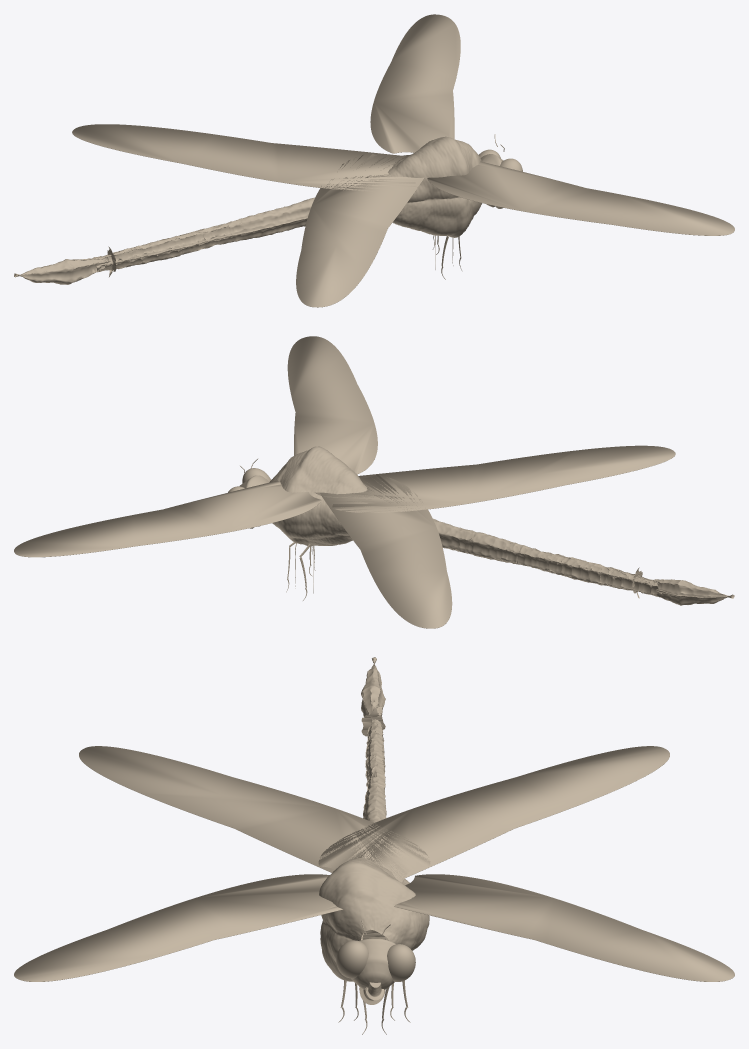
The model's file is 3dcodebench_Dragonfly_seed0.glb.
3 views of the same model, one above another, from view 1: azimuth 30°, elevation 25°; view 2: azimuth 150°, elevation 25°; view 3: azimuth 270°, elevation 25° (orthographic). The views are drawn at different scales.
Parts seen in each view (by area): view 1: object; view 2: object; view 3: object.
Part boxes in pixels (x1,y1,x2,y2): object: (14,14,734,307); object: (14,336,734,628); object: (14,657,734,1034).
Size of the model in its own units: 0.7822 by 0.1857 by 0.7034.
